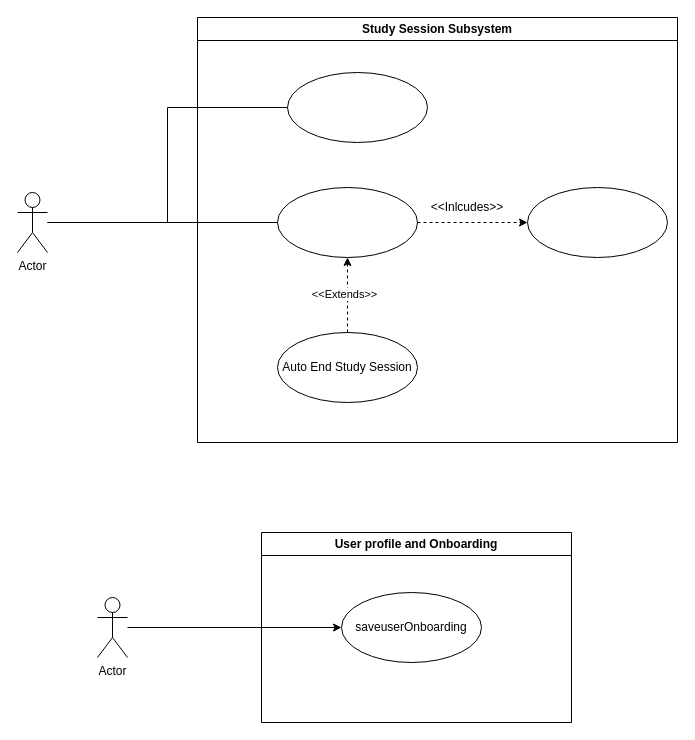
Some shapes in this 695 by 740 pixel diagram are drawn without their labels. The shapes that lost their labels are listed below. From the top down, each one's centre as x and y in pixels, then its label:
point (357, 107): Start Study Session
point (347, 222): End StudySession
point (597, 222): Get Active Session
